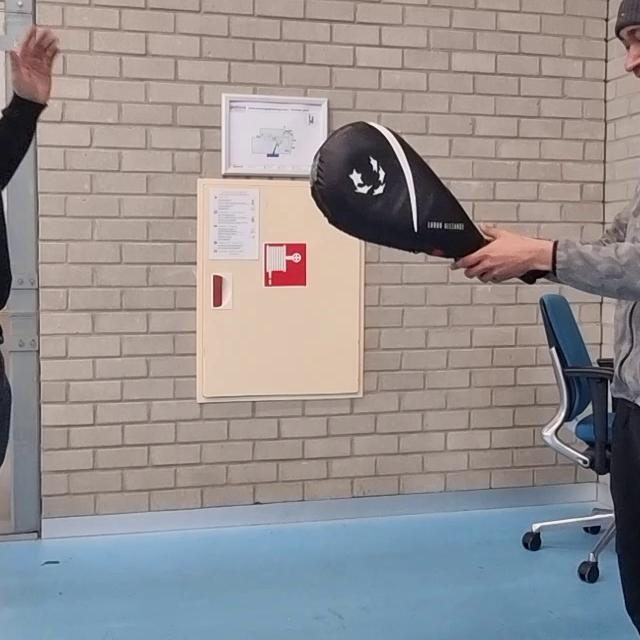paddle: (312, 121, 487, 256)
